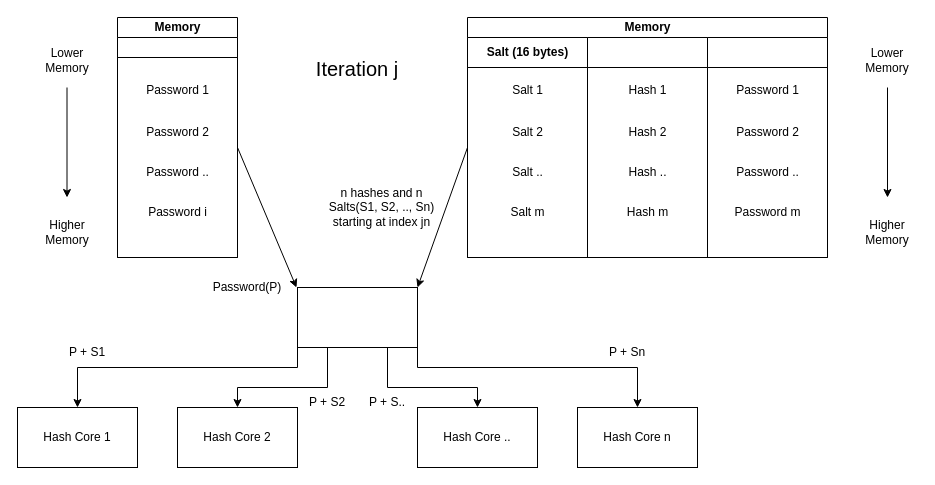
The diagram is 935 pixels wide and 485 high, and some of its shapes have lost their labels. Here are the shapes that lost their labels. From the top down, the box of each, then its label:
(116, 36, 238, 258): Password (40 bytes)
(586, 36, 708, 258): Hash (32 bytes)
(706, 36, 828, 258): Correct Password (40 bytes)
(296, 286, 418, 348): Core Controller
